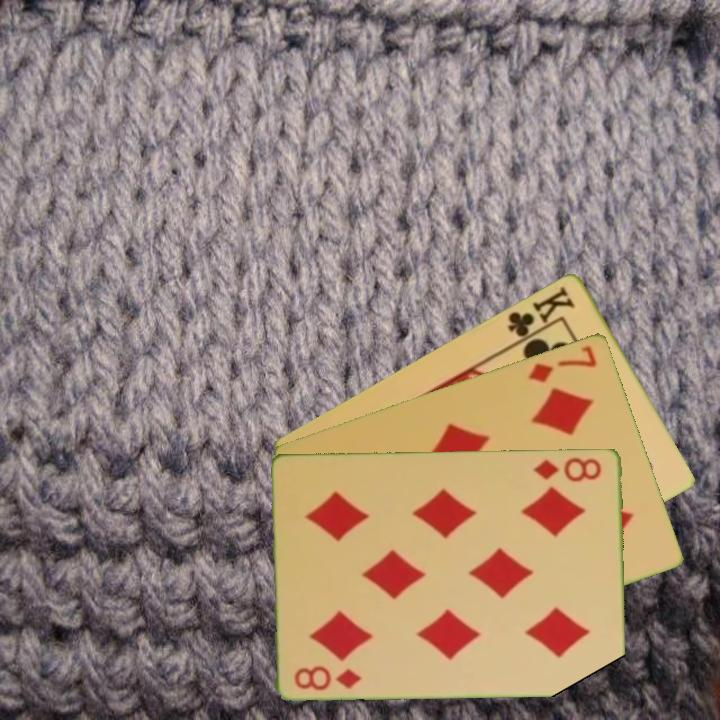7d: (525, 341, 600, 385)
8d: (291, 661, 364, 693), (530, 453, 605, 484)
Kc: (504, 282, 579, 346)
